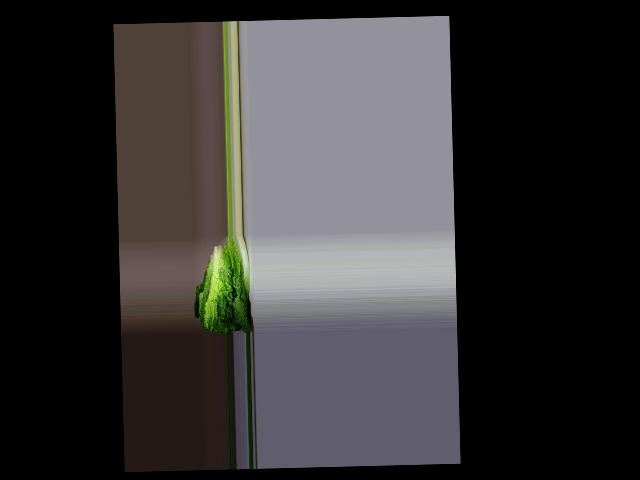lettuce: (199, 240, 253, 334)
